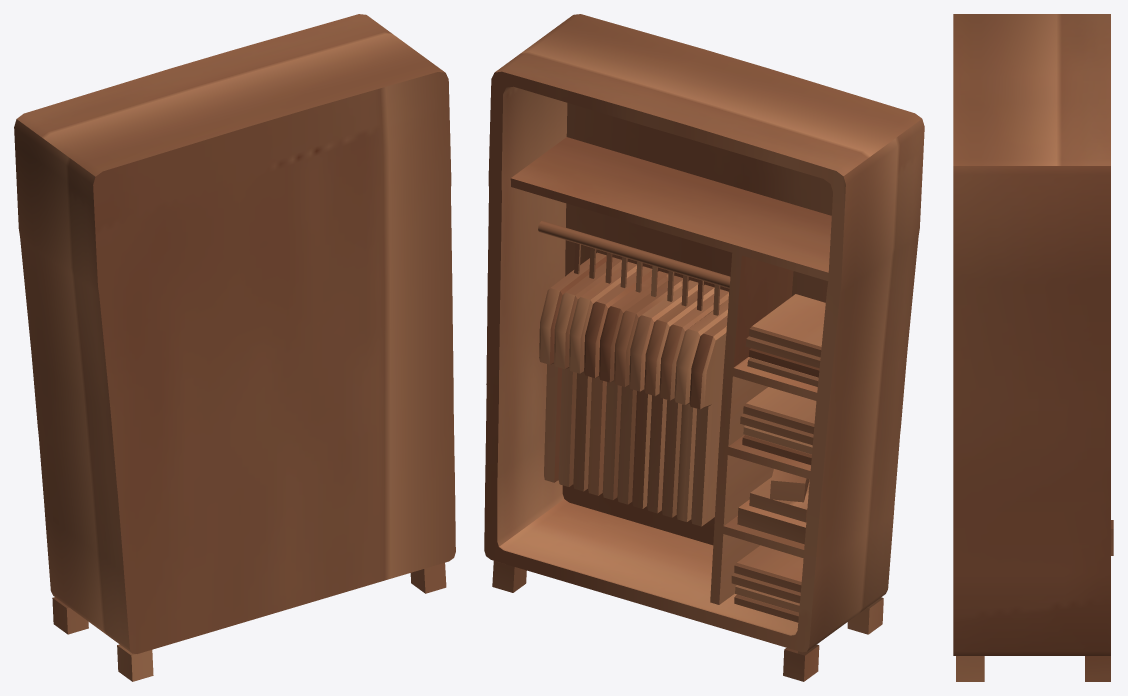
The model's file is WardrobeWithAnims.fbx.
3 views of the same model, side by side, from view 1: azimuth 30°, elevation 25°; view 2: azimuth 150°, elevation 25°; view 3: azimuth 270°, elevation 25° (orthographic).
Visible parts, largest first — view 1: 2; view 2: 2; view 3: 2.
Boxes of the visible parts, bbox=[...] form: 2: bbox=[14, 14, 455, 681]; 2: bbox=[484, 14, 924, 681]; 2: bbox=[953, 14, 1113, 681].
Bounding box in the file's own units: 114 × 162 × 43.84.
